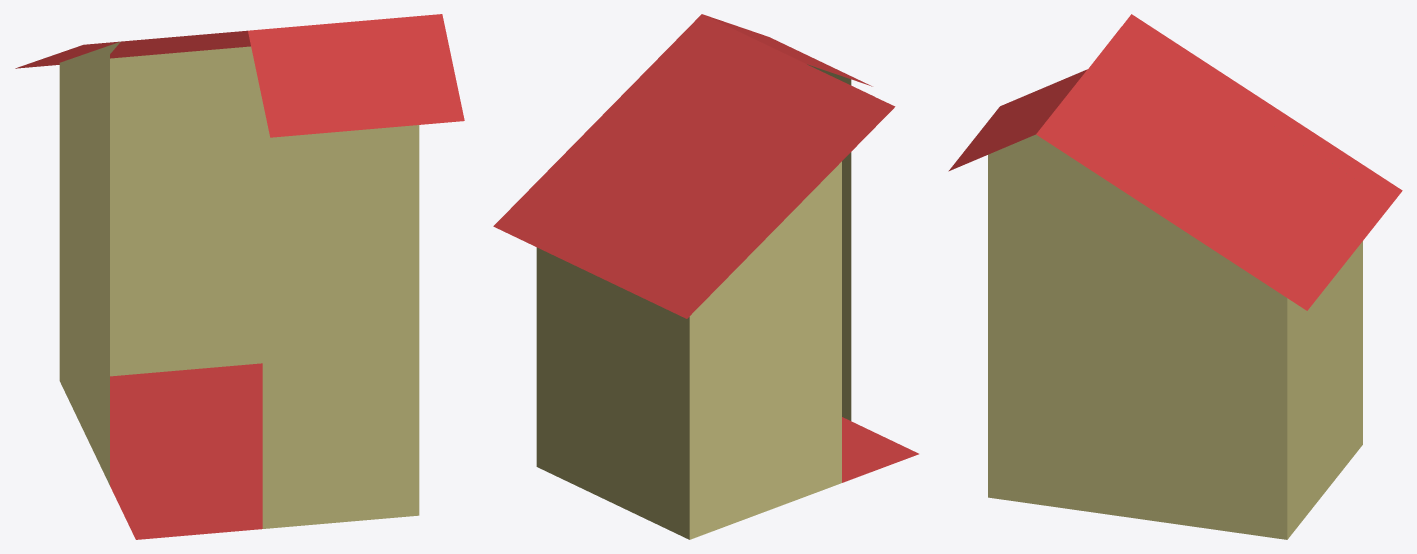
The picture shows the model from 3 angles, left to right: view 1: azimuth 30°, elevation 25°; view 2: azimuth 150°, elevation 25°; view 3: azimuth 270°, elevation 25°; orthographic projection. The views are drawn at different scales.
Bounding box in the file's own units: 8.94 × 10.8 × 10.07.
